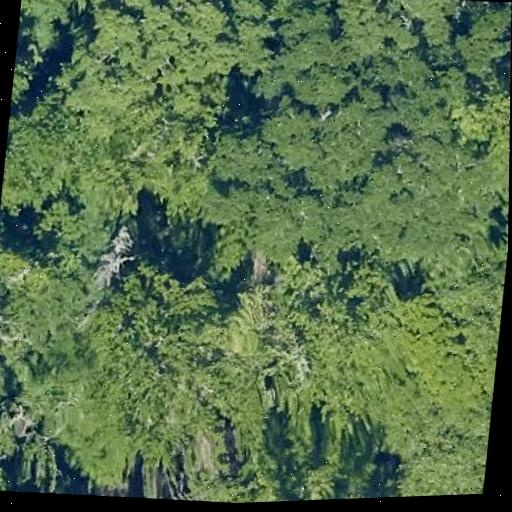tree-top: (71, 261, 237, 463), (315, 286, 469, 450), (71, 92, 212, 244), (360, 137, 488, 268), (206, 281, 324, 414), (127, 0, 248, 99), (208, 170, 321, 274), (290, 84, 399, 189), (14, 272, 101, 374), (253, 31, 352, 118), (0, 111, 76, 216), (388, 432, 488, 497), (455, 84, 510, 196), (201, 111, 277, 186), (199, 443, 290, 504), (446, 0, 512, 78), (18, 0, 116, 38), (9, 21, 44, 127), (0, 394, 35, 468), (292, 450, 342, 501), (0, 345, 18, 422), (0, 447, 13, 492), (0, 275, 3, 362)
